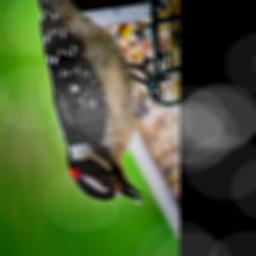Woodpecker: (30, 0, 168, 203)
